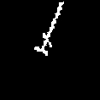double_crochet: (34, 2, 63, 55)
